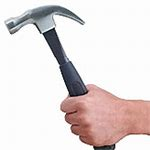hammer: (3, 4, 120, 150)
